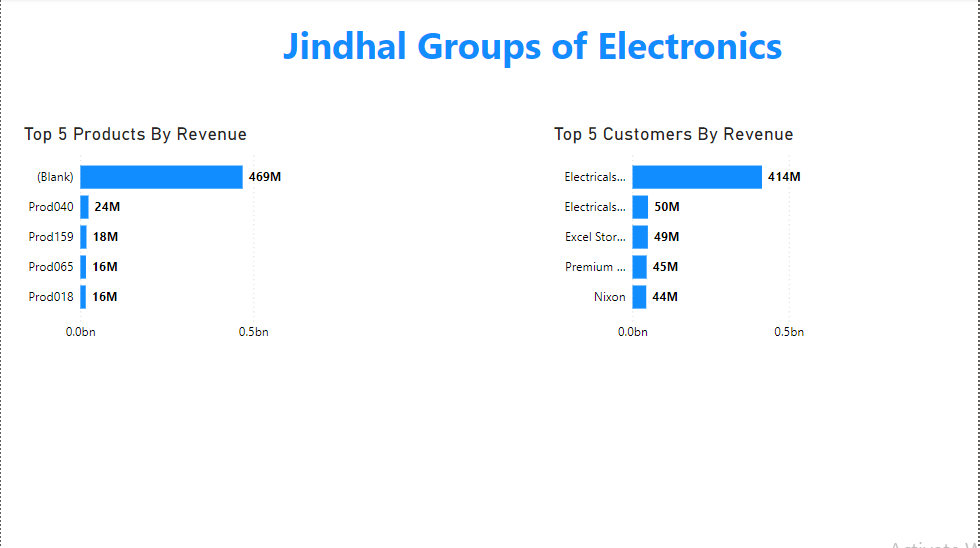

Layout of this report page (visuals, bound fields, positions):
{"tool":"powerbi","page":{"name":"Dashboard 3","canvas":[1280,720],"ordinal":2},"visuals":[{"type":"textbox","box":[10,0,280,280],"z":0},{"type":"barChart","title":"Top 5 Customers By Revenue ","fields":{"Y":["Base Measure.Revenue"],"Category":["sales customers.custmer_name"]},"box":[718.6,164.2,378.7,293.8],"z":1000},{"type":"barChart","title":"Top 5 Products By Revenue ","fields":{"Y":["Base Measure.Revenue"],"Category":["sales products.product_code"]},"box":[24.5,164.2,375.8,293.8],"z":2000},{"type":"textbox","box":[213.1,21.6,977.8,87.8],"z":2001}]}

Visuals, with their boxes in screenshot pixels (x1, y1, x2, y2), scaled from the page's 1280x720 canvas onto the 980x548 screenshot:
textbox: {"left": 8, "top": 0, "right": 222, "bottom": 213}
"Top 5 Customers By Revenue " barChart: {"left": 550, "top": 125, "right": 840, "bottom": 349}
"Top 5 Products By Revenue " barChart: {"left": 19, "top": 125, "right": 306, "bottom": 349}
textbox: {"left": 163, "top": 16, "right": 912, "bottom": 83}
